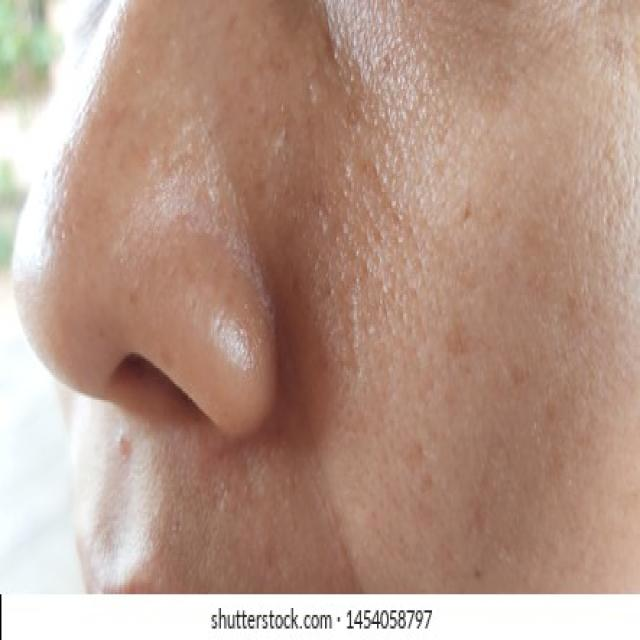Englarged-Pores: (272, 104, 461, 340)
Oily-Skin: (26, 23, 557, 640)
